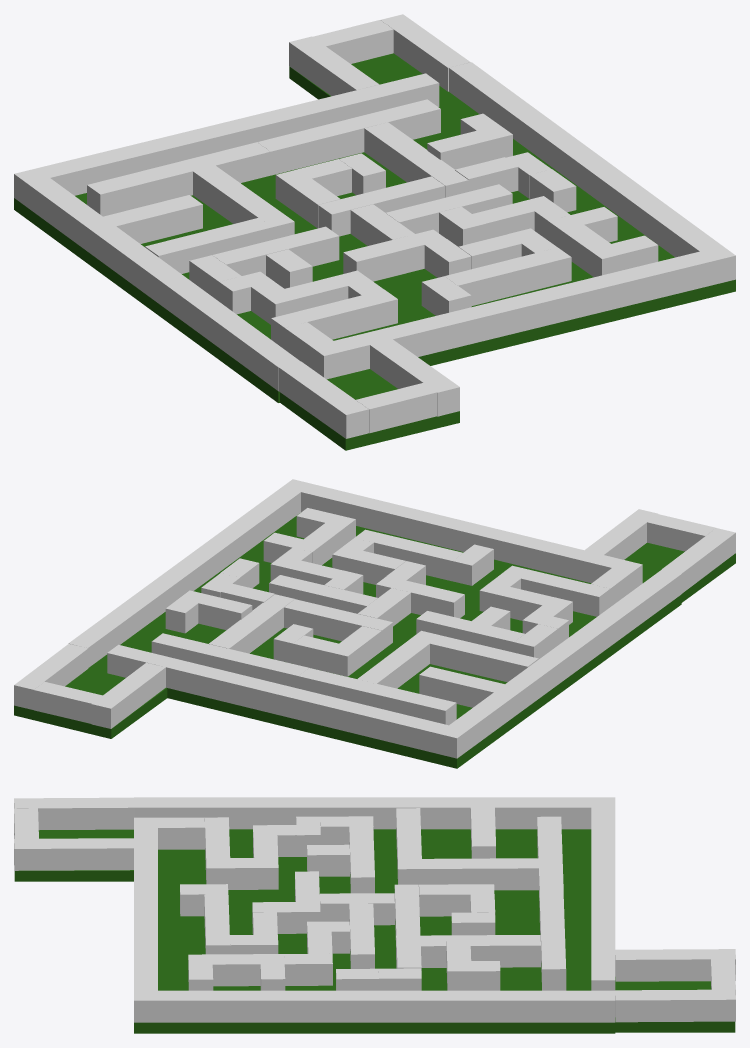
The model's file is map2.fbx.
3 views of the same model, one above another, from view 1: azimuth 30°, elevation 25°; view 2: azimuth 150°, elevation 25°; view 3: azimuth 270°, elevation 25° (orthographic). The views are drawn at different scales.
Parts seen in each view (by area): view 1: Cube.043, Cube.003, Cube.002, Cube.001, Cube, Cube.017, Cube.018, Cube.029, Cube.006, Cube.045, Cube.015, Cube.051 (+38 smaller); view 2: Cube.043, Cube.001, Cube.003, Cube.002, Cube, Cube.017, Cube.018, Cube.013, Cube.049, Cube.022, Cube.006, Cube.015 (+38 smaller); view 3: Cube.043, Cube, Cube.002, Cube.003, Cube.001, Cube.051, Cube.046, Cube.050, Cube.049, Cube.045, Cube.015, Cube.018 (+38 smaller).
Boxes of the visible parts, x1,y1,x2,y2 form: Cube.043: (14,53,735,450); Cube.003: (310,246,735,379); Cube.002: (27,178,300,391); Cube.001: (14,73,439,206); Cube: (449,62,722,257); Cube.017: (87,142,270,216); Cube.018: (257,99,440,175); Cube.029: (445,247,571,305); Cube.006: (271,289,397,349); Cube.045: (278,361,368,438); Cube.015: (364,122,469,197); Cube.051: (193,165,294,239); Cube.043: (14,513,735,768); Cube.001: (107,644,468,758); Cube.003: (282,479,642,591); Cube.002: (449,569,681,749); Cube: (68,487,300,667); Cube.017: (298,668,456,725); Cube.018: (151,633,308,688); Cube.013: (430,635,538,682); Cube.049: (91,662,165,728); Cube.022: (284,599,392,650); Cube.006: (501,565,610,616); Cube.015: (209,594,294,653); Cube.043: (14,829,735,1033); Cube: (158,990,615,1022); Cube.002: (134,797,591,829); Cube.003: (134,817,157,1022); Cube.001: (591,797,615,990); Cube.051: (398,858,539,890); Cube.046: (14,838,134,870); Cube.050: (615,989,735,1022); Cube.049: (615,949,735,981); Cube.045: (14,797,134,830); Cube.015: (396,935,540,967); Cube.018: (539,893,566,990).
Size of the model in its own units: 2000 by 181 by 3001.
